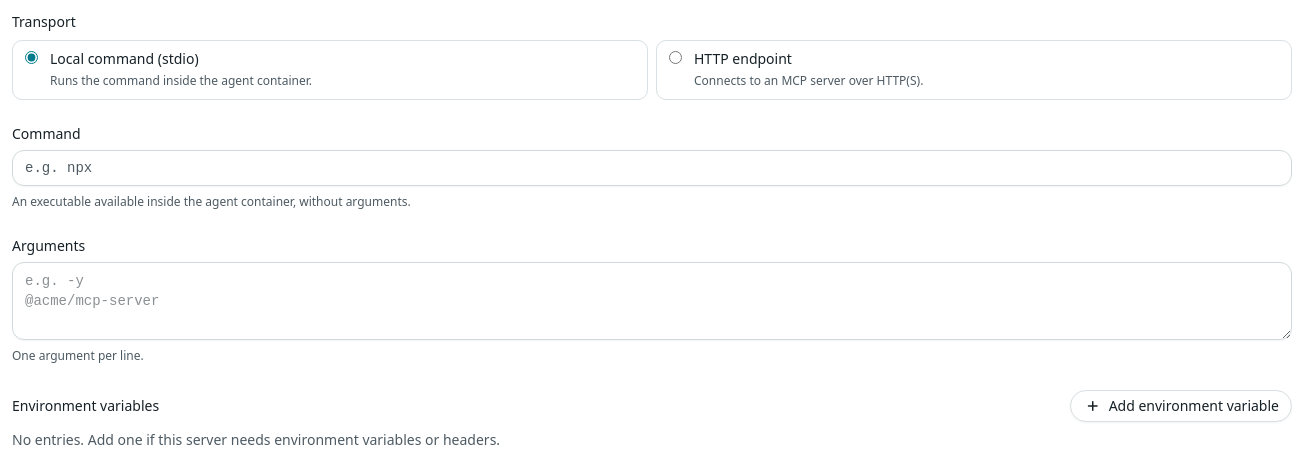
Test case: mcp transport form — transport switch reset › switches immediately when there is nothing to discard
Click the radio button labelled "HTTP endpoint" at (676, 58), box [669,51,682,64]
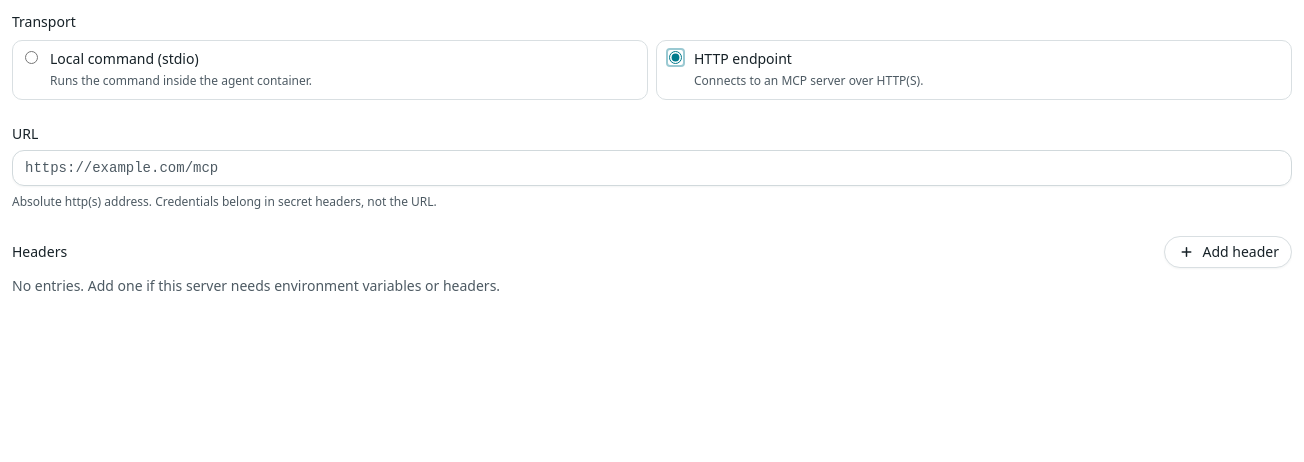
Check: the field labelled "URL" is shown, box [12,150,1292,186]
